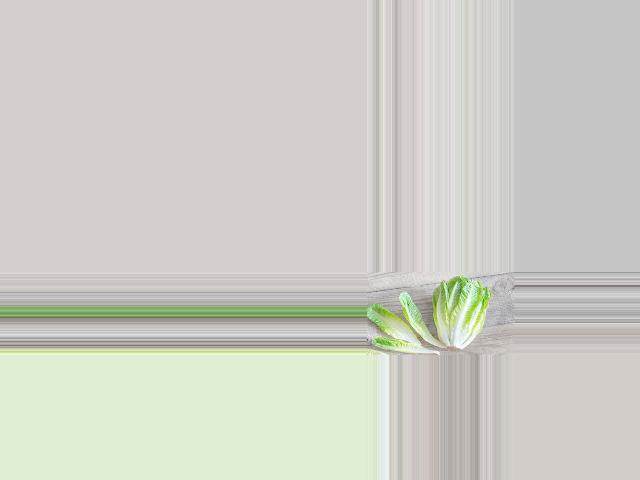lettuce: (429, 277, 492, 347)
